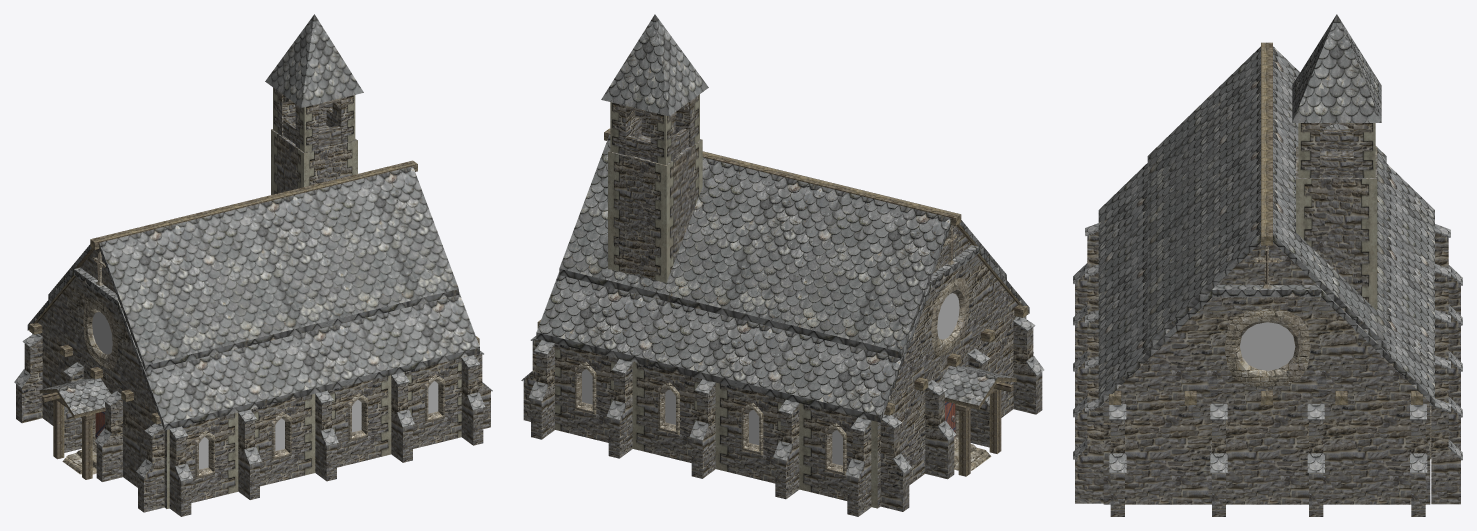
Rendered from Church_Int.fbx.
The picture shows the model from 3 angles, left to right: view 1: azimuth 30°, elevation 25°; view 2: azimuth 150°, elevation 25°; view 3: azimuth 270°, elevation 25°; orthographic projection. The views are drawn at different scales.
Parts seen in each view (by area): view 1: Church; view 2: Church; view 3: Church.
Part boxes in pixels (x1,y1,x2,y2): Church: (14,14,492,516); Church: (521,14,1044,516); Church: (1073,14,1462,516).
Bounding box in the file's own units: 25.2 × 22.96 × 17.89.
